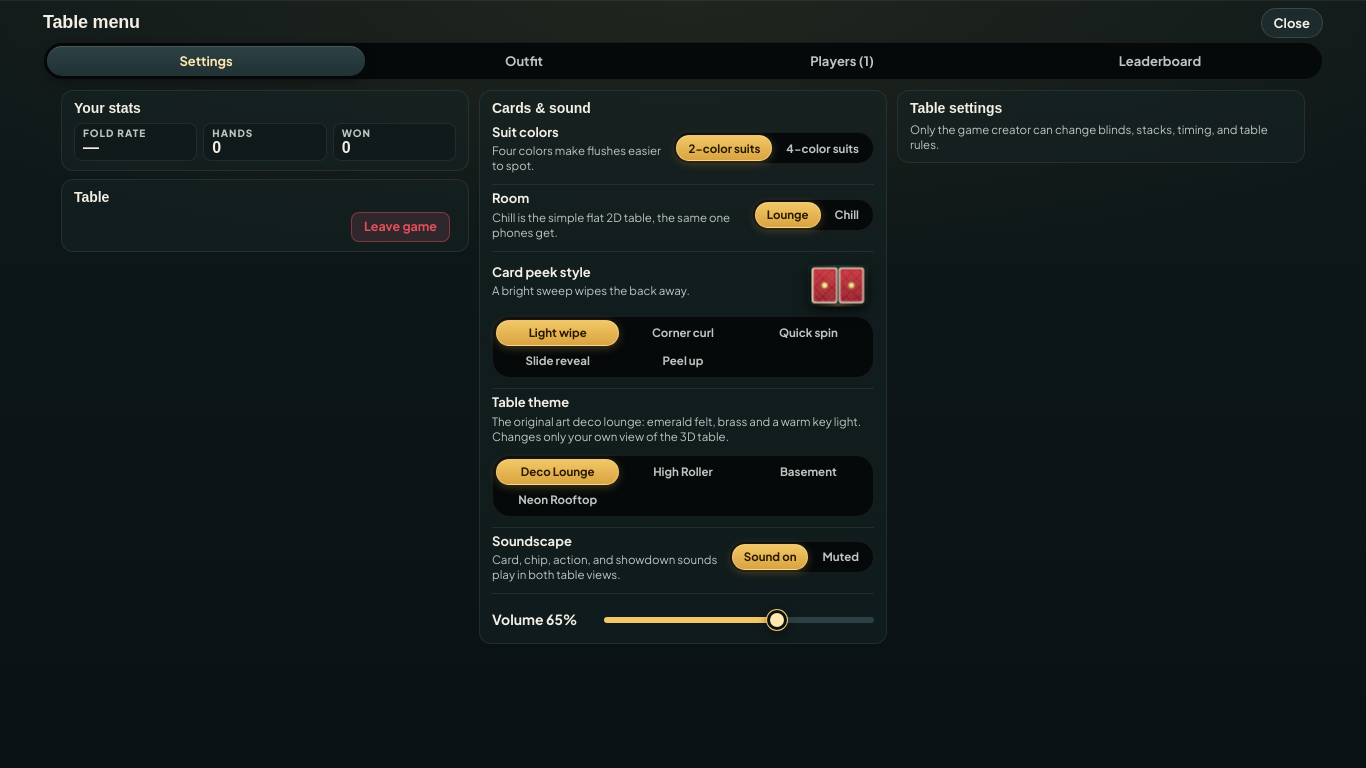
SettingsModal › keeps table and player management controls hidden from non-creators
Click the button "Players (1)" at (842, 61), box [683, 46, 1001, 76]
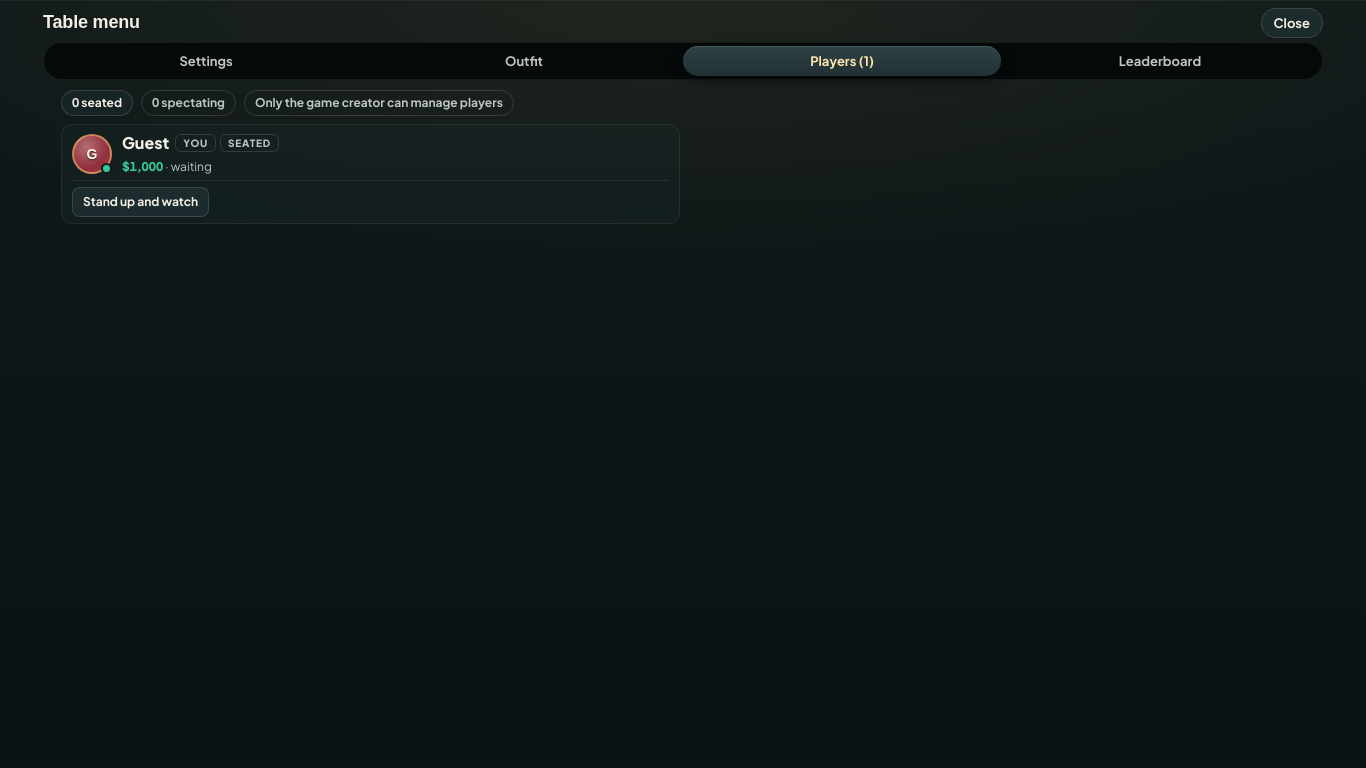
Expected: the text "Only the game creator can manage players" is shown, [244, 90, 514, 116]
